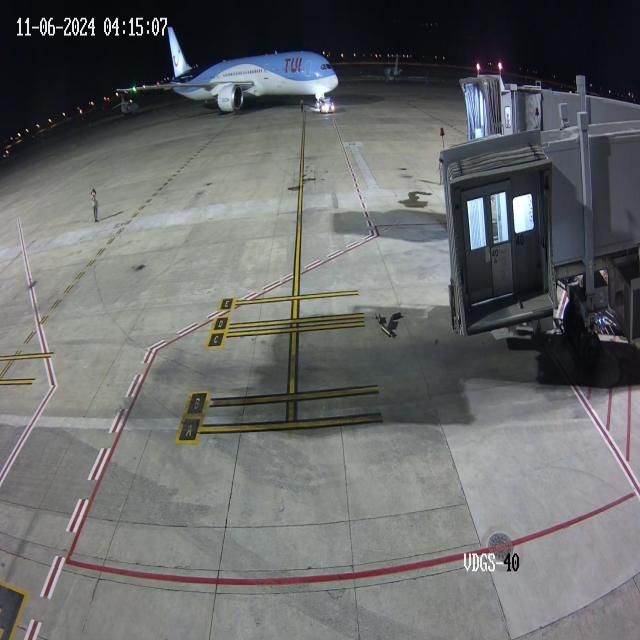bridge: (488, 75, 544, 137)
plane: (110, 4, 344, 116)
window: (318, 61, 334, 73)
